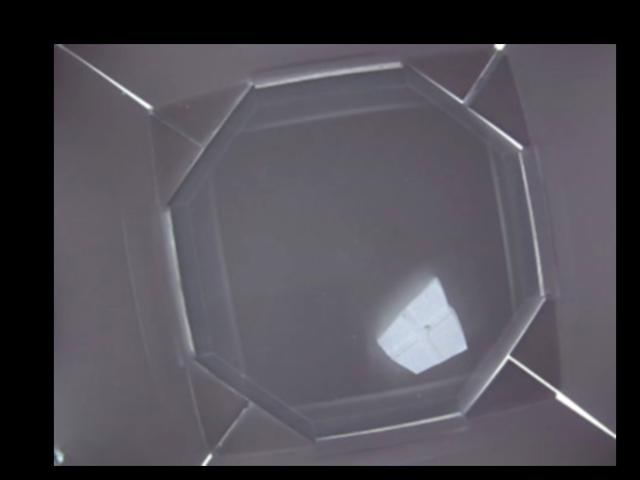China: (379, 276, 469, 371)
